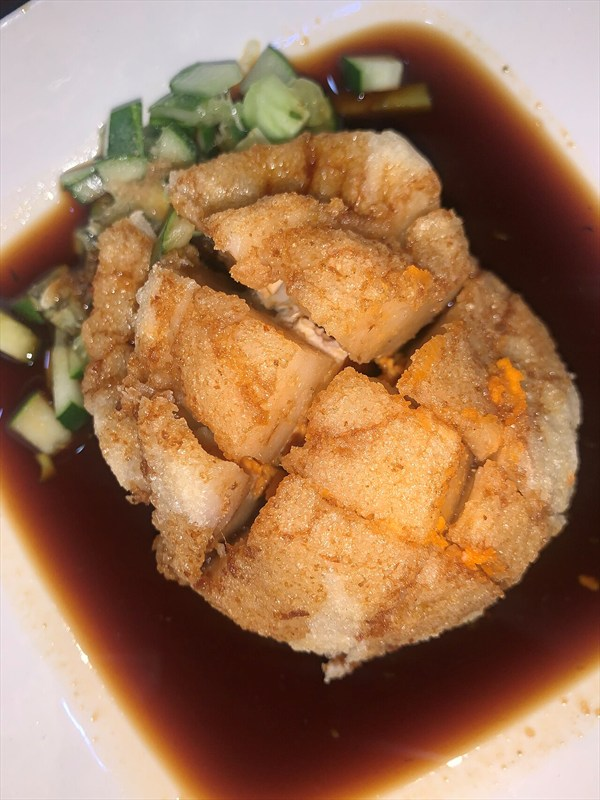Pempek: (28, 72, 542, 715)
